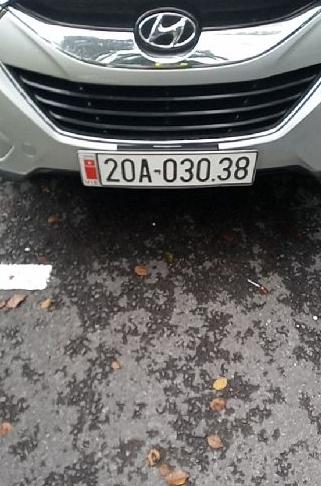Plate-iWeP: (94, 149, 261, 191)
